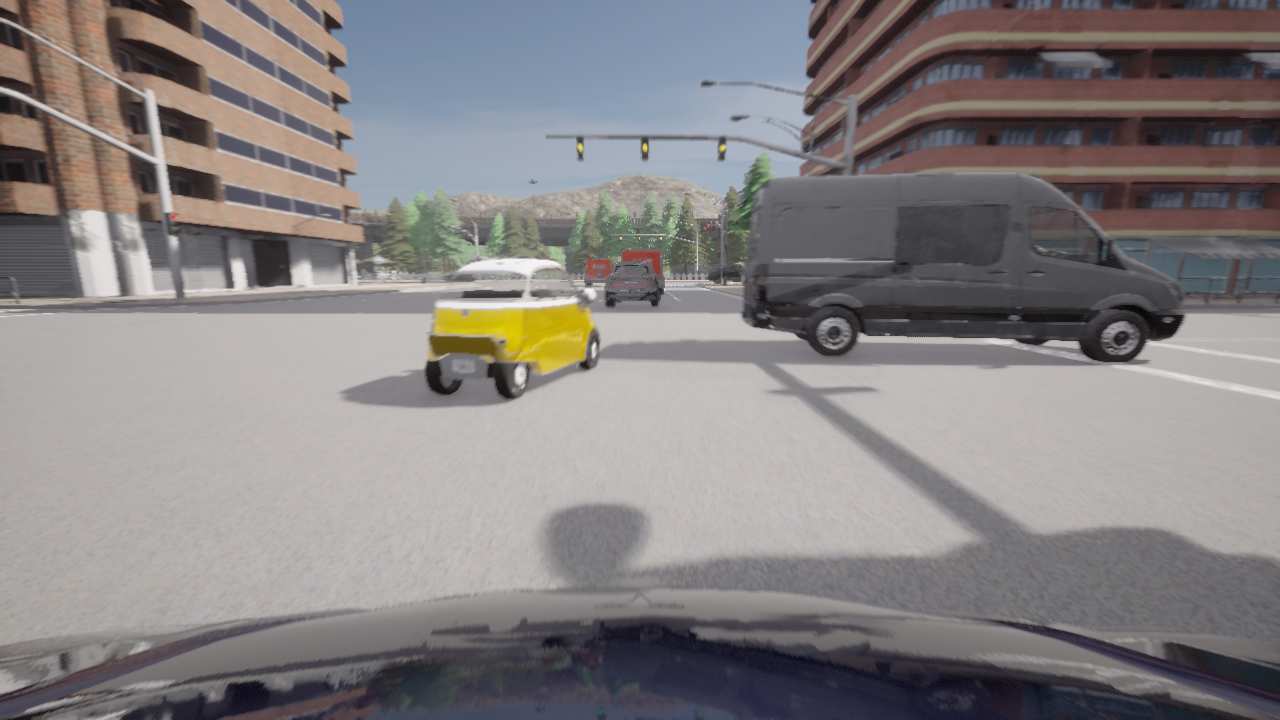cyclist: (0, 588, 1279, 719), (741, 172, 1184, 363), (424, 258, 599, 399), (605, 261, 659, 306), (622, 250, 663, 294), (585, 259, 611, 286), (708, 265, 744, 282), (442, 271, 456, 282)
